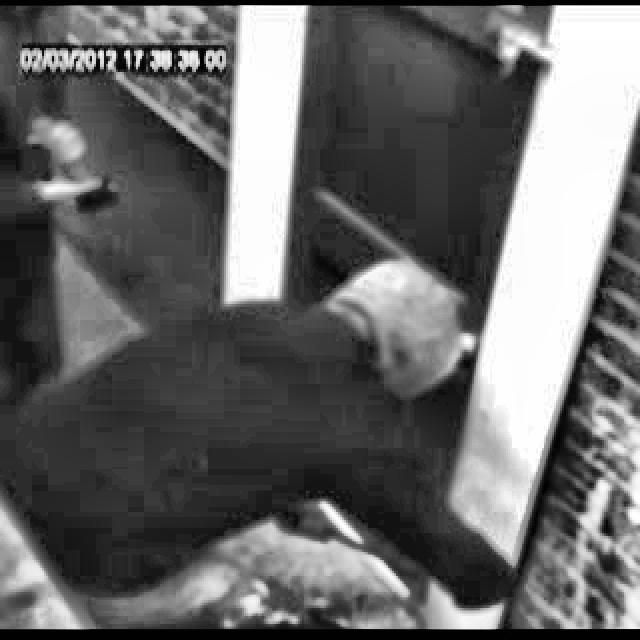burglary: (211, 253, 521, 630)
